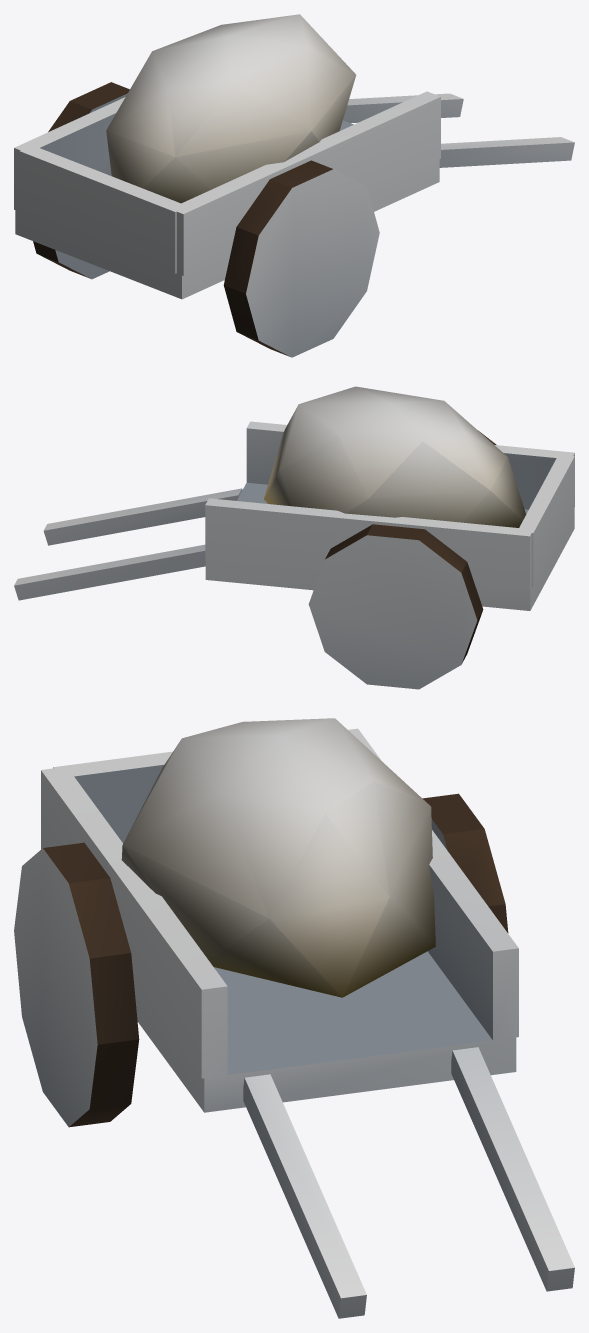
File: prop_cart.glb
3 renders of one model, top to bottom at view 1: azimuth 30°, elevation 25°; view 2: azimuth 150°, elevation 25°; view 3: azimuth 270°, elevation 25°, orthographic. The views are drawn at different scales.
Parts seen in each view (by area): view 1: prop_cart; view 2: prop_cart; view 3: prop_cart.
Boxes of the visible parts, <box> form: prop_cart: <box>14,14,574,357</box>; prop_cart: <box>14,386,574,689</box>; prop_cart: <box>14,718,574,1318</box>.
Bounding box in the file's own units: 0.846 × 0.3736 × 0.5153.
